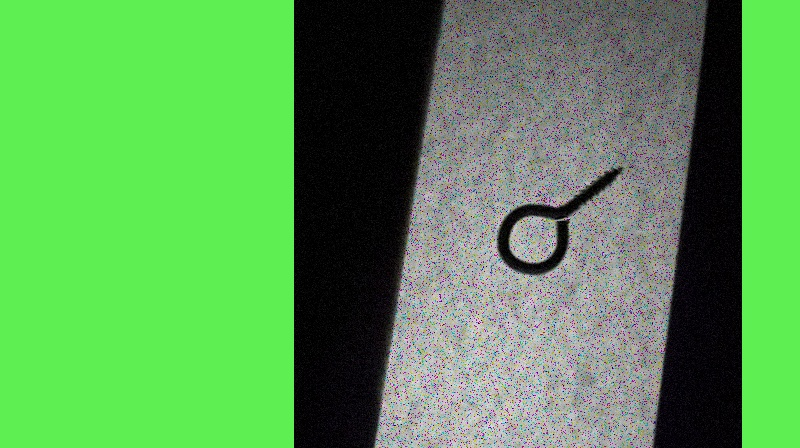O001: (493, 163, 627, 278)
